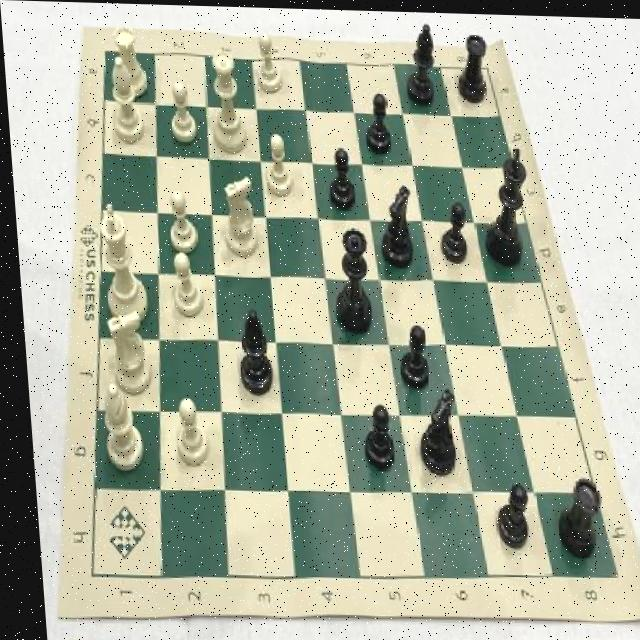bishop: (228, 306, 270, 400), (400, 17, 440, 105)
black-bishop: (475, 137, 530, 269)
black-king: (408, 381, 454, 478), (375, 179, 415, 269)
black-knight: (484, 474, 524, 550), (353, 399, 391, 469), (320, 143, 358, 212), (389, 319, 426, 387), (357, 87, 394, 155), (434, 198, 470, 267)
black-pawn: (325, 221, 370, 335)
black-queen: (545, 469, 599, 558), (453, 26, 493, 104)
black-rook: (91, 378, 141, 472), (101, 55, 145, 145)
white-bishop: (92, 199, 147, 326)
white-king: (98, 308, 150, 395), (215, 174, 258, 260)
white-knight: (160, 251, 204, 321), (166, 396, 206, 469), (163, 79, 201, 150), (160, 185, 196, 257), (260, 130, 296, 198), (251, 28, 286, 97)
white-pawn: (202, 41, 249, 157)
white-queen: (111, 22, 148, 99)
